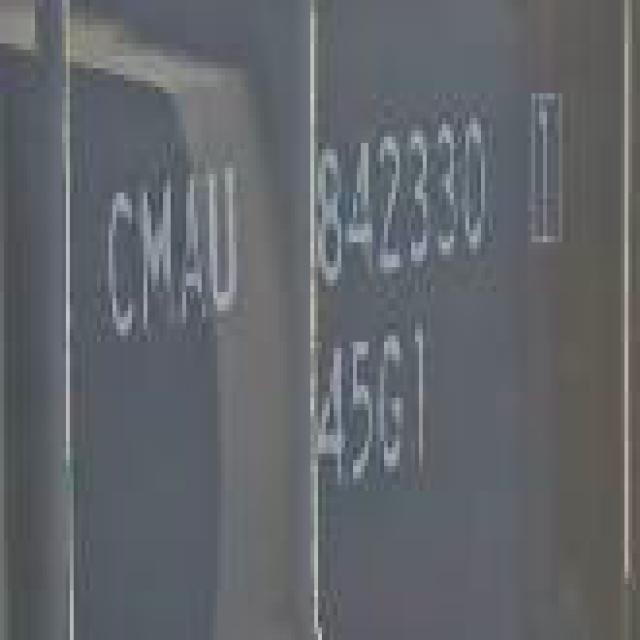dv: (516, 73, 585, 266)
owner: (88, 140, 268, 357)
serial: (307, 96, 498, 302)
size: (302, 309, 444, 506)
